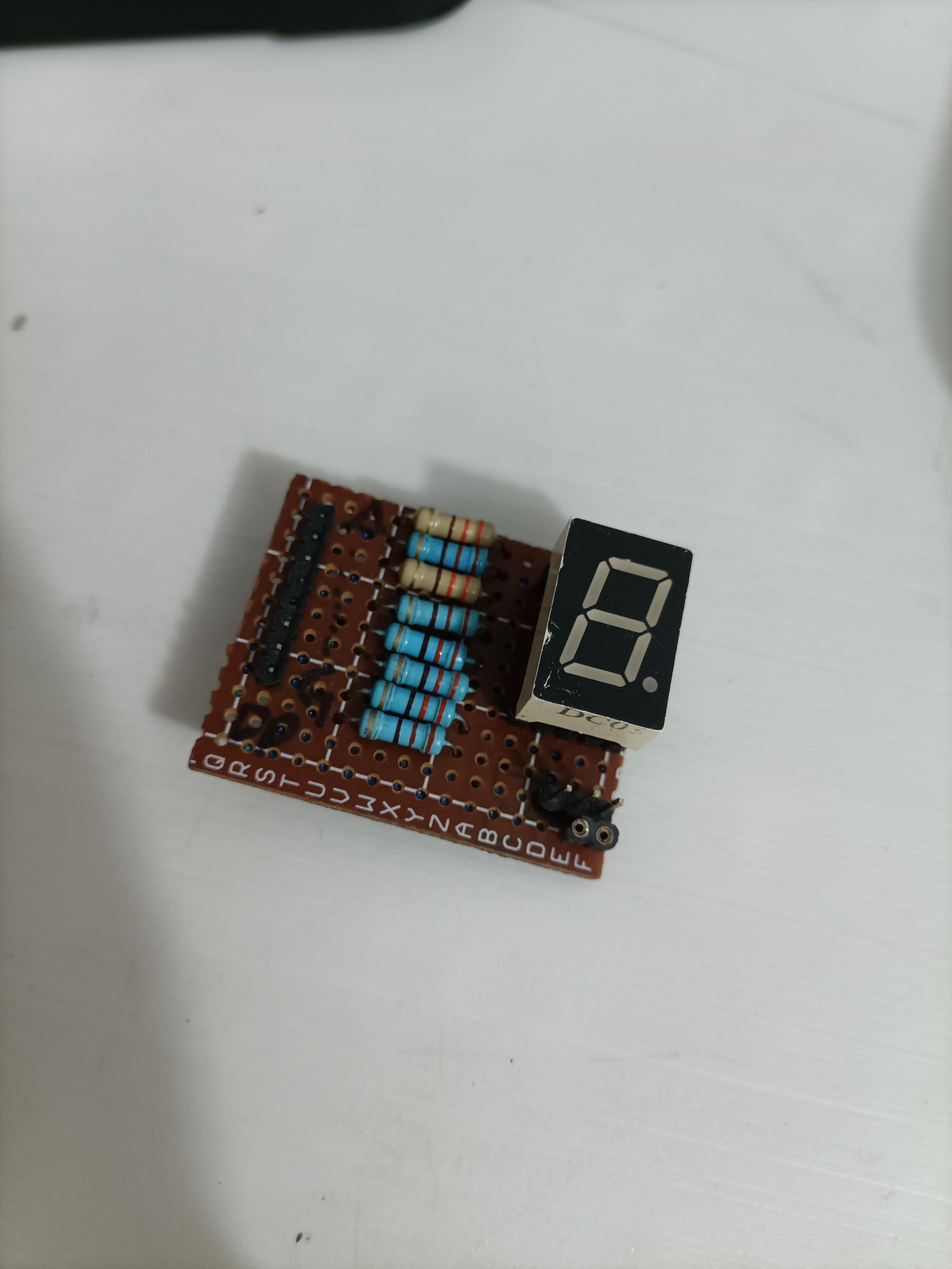Resistencia: (356, 706, 462, 738), (372, 677, 472, 709), (408, 557, 493, 593), (401, 590, 485, 626), (383, 652, 479, 681), (391, 620, 480, 651), (415, 499, 501, 531), (413, 529, 490, 561)
